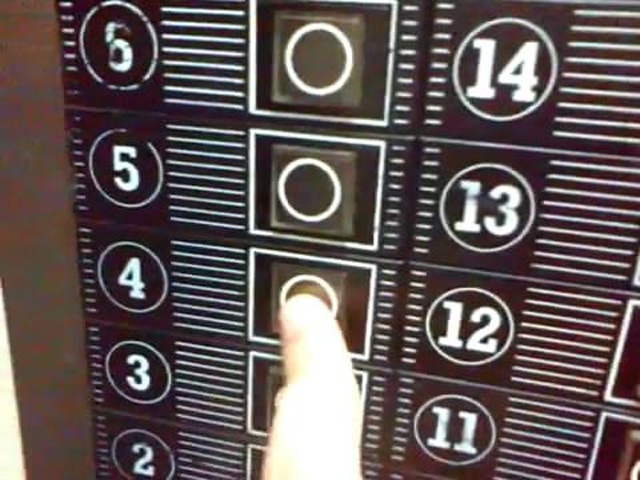11: (410, 390, 497, 467)
12: (422, 281, 516, 371)
13: (434, 156, 538, 254)
14: (448, 7, 562, 125)
2: (107, 426, 177, 480)
3: (101, 336, 174, 407)
4: (92, 236, 173, 318)
5: (83, 122, 168, 211)
6: (74, 1, 162, 93)
empty: (263, 7, 372, 116), (261, 138, 363, 244)
